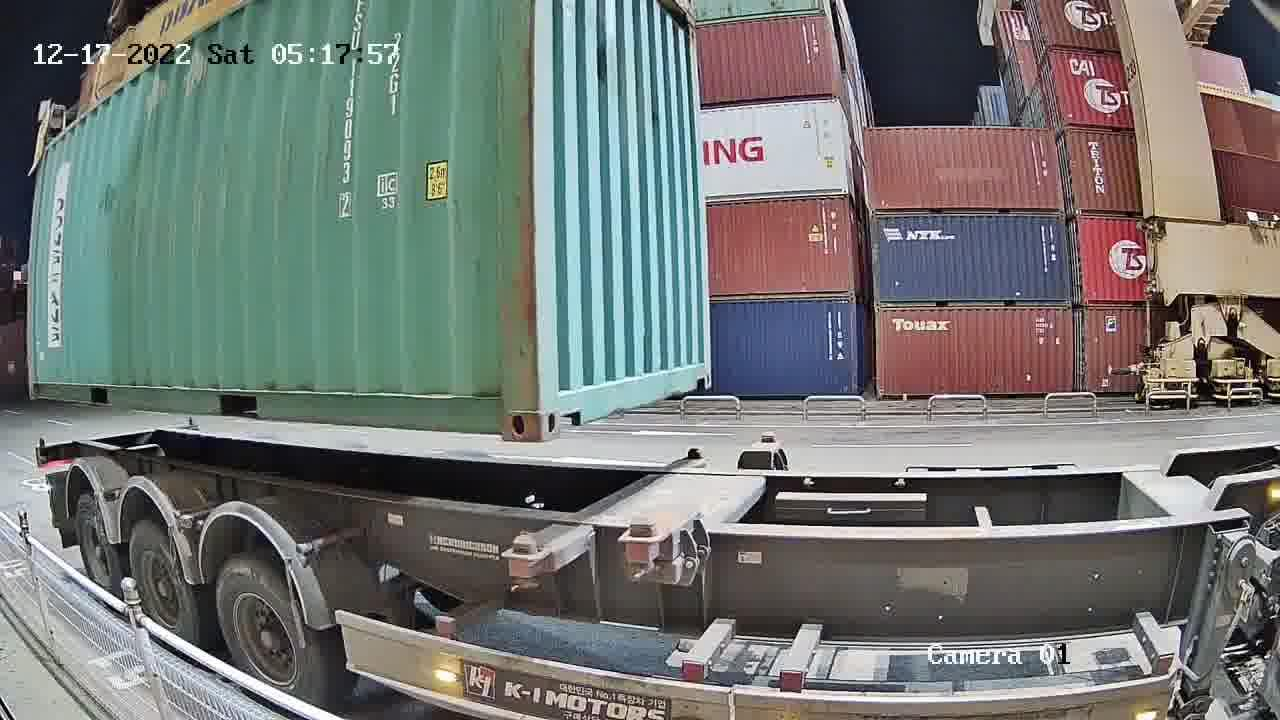Chassis: (510, 449, 713, 576)
Cone: (511, 570, 548, 599)
Container: (540, 323, 712, 449)
Hole_L: (537, 348, 578, 449)
Hole_R: (474, 351, 541, 445), (692, 323, 714, 391)
Tire: (212, 558, 325, 701), (126, 525, 201, 642), (72, 499, 123, 600)
